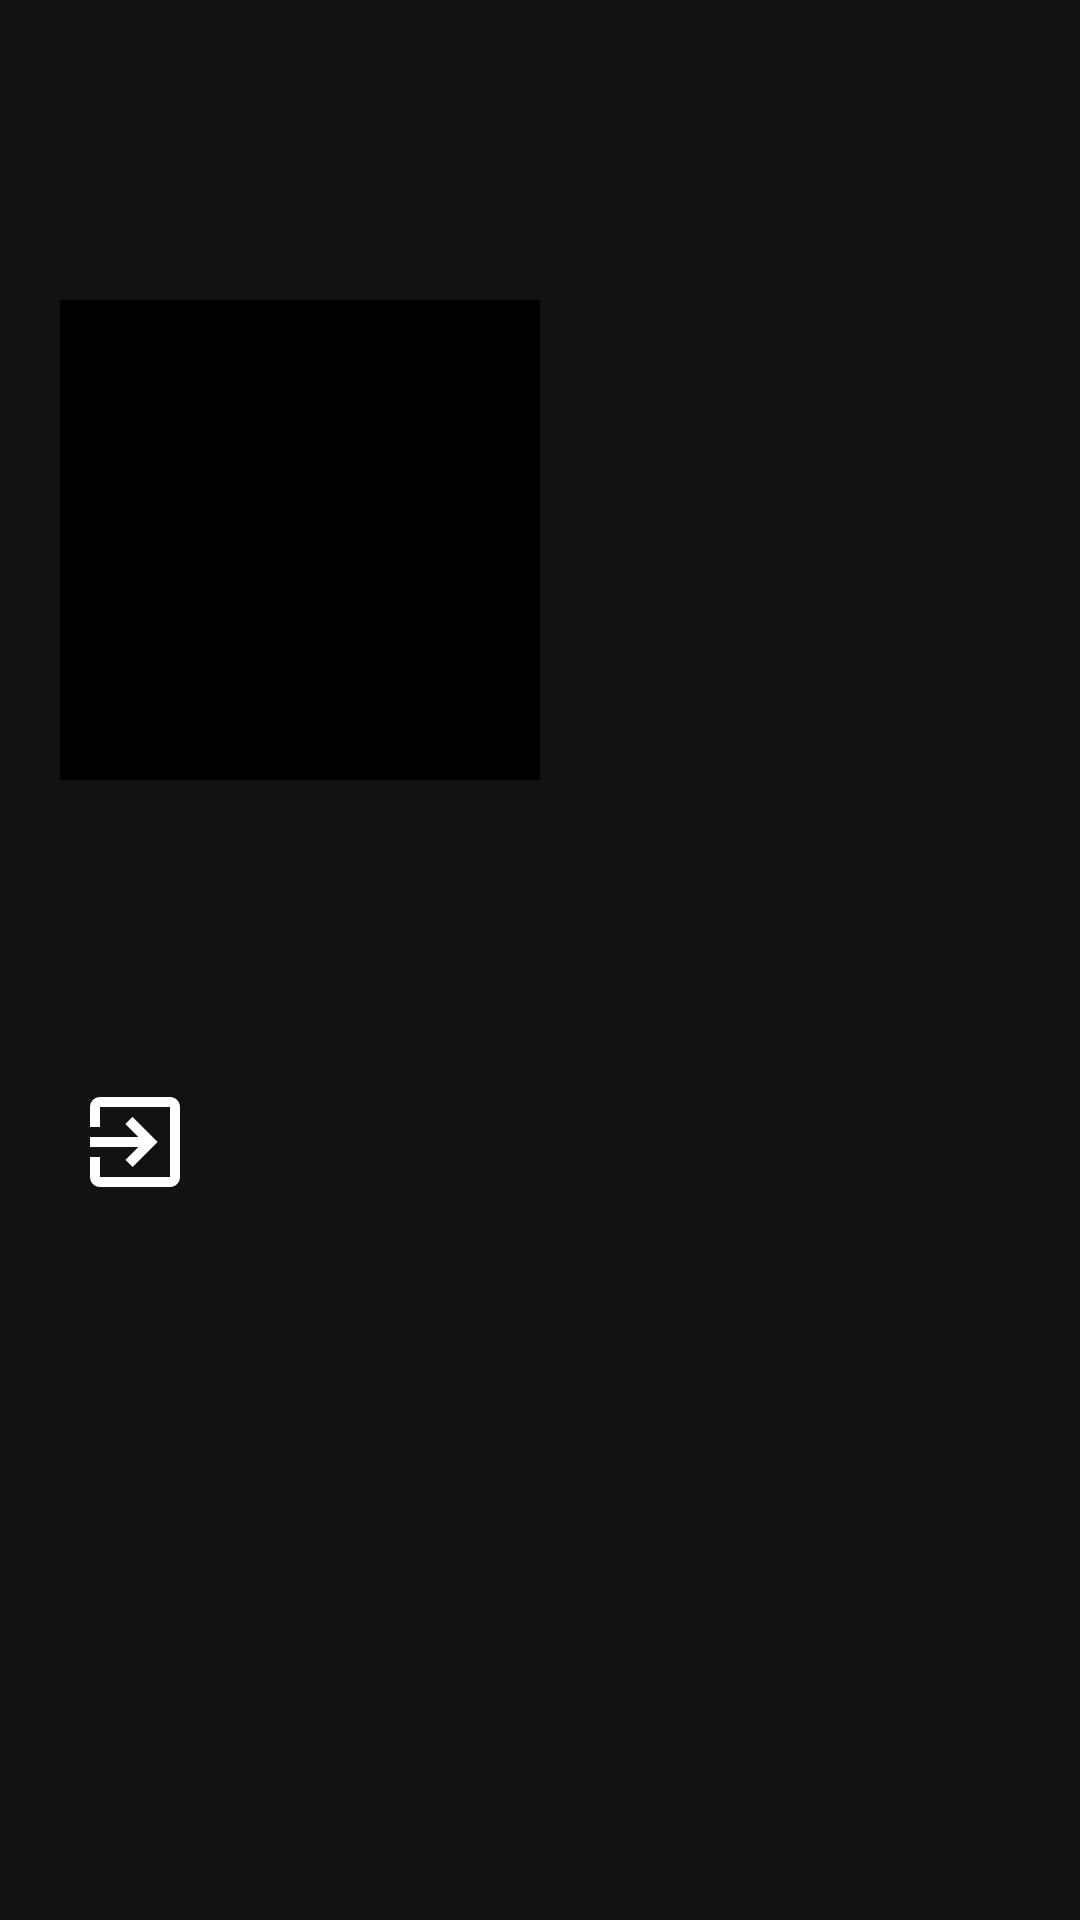

Named icons in this screenshot (1080*1920) and their bounding boxes, BBox(x1, y1, x2, y2):
exit: BBox(90, 1097, 180, 1187)
